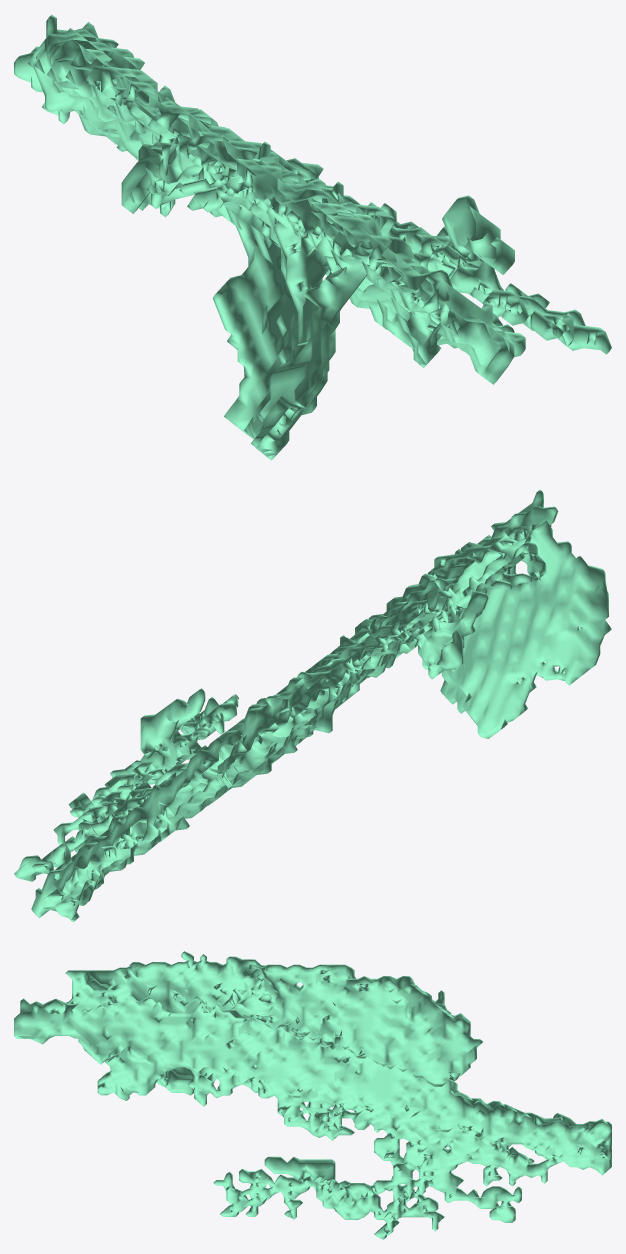
File: osteocyte_41.glb
The picture shows the model from 3 angles, top to bottom: view 1: azimuth 30°, elevation 25°; view 2: azimuth 150°, elevation 25°; view 3: azimuth 270°, elevation 25°; orthographic projection. The views are drawn at different scales.
Parts seen in each view (by area): view 1: osteocyte_41; view 2: osteocyte_41; view 3: osteocyte_41.
Boxes of the visible parts, <box> form: osteocyte_41: <box>14,14,611,460</box>; osteocyte_41: <box>14,489,611,921</box>; osteocyte_41: <box>14,951,611,1239</box>.
Bounding box in the file's own units: 22.63 × 13.96 × 44.78.
